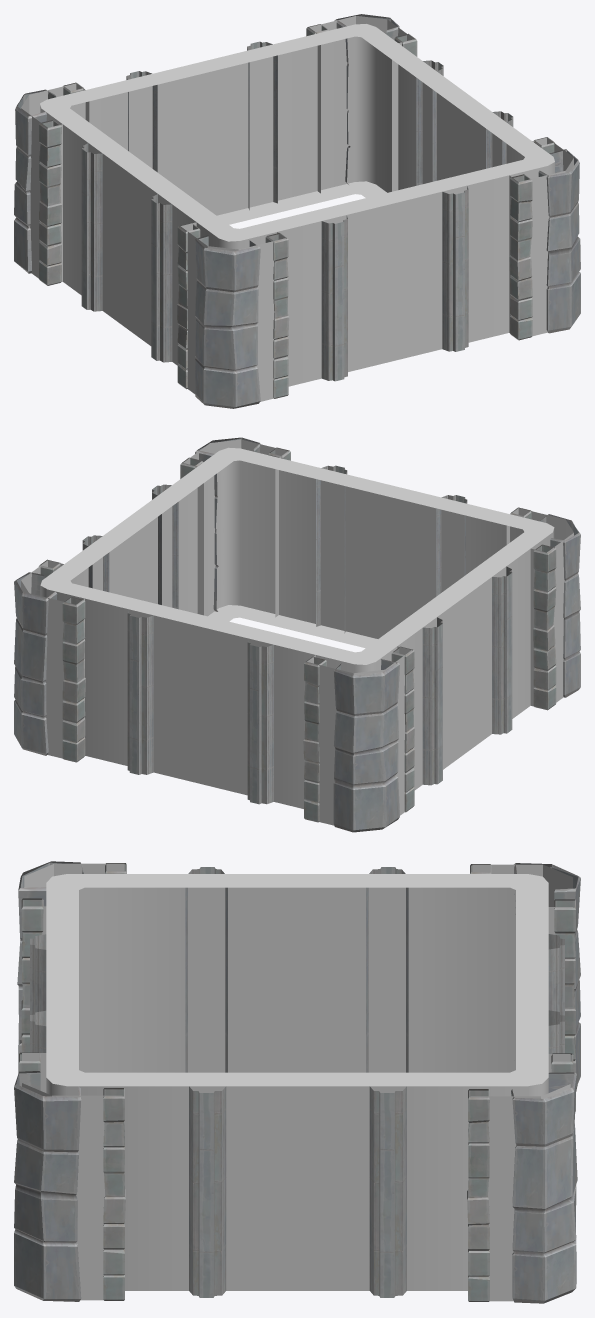
File: SM_TowerF_Mid_01.fbx
3 views of the same model, one above another, from view 1: azimuth 30°, elevation 25°; view 2: azimuth 150°, elevation 25°; view 3: azimuth 270°, elevation 25° (orthographic). The views are drawn at different scales.
Visible parts, largest first — view 1: SM_TowerF_Mid_01_LOD0; view 2: SM_TowerF_Mid_01_LOD0; view 3: SM_TowerF_Mid_01_LOD0.
Boxes of the visible parts, x1,y1,x2,y2 form: SM_TowerF_Mid_01_LOD0: (14,14,580,408); SM_TowerF_Mid_01_LOD0: (14,437,580,832); SM_TowerF_Mid_01_LOD0: (14,861,580,1303).
Size of what is drawn, in the model's own units: 11.29 by 4.5 by 11.29.
